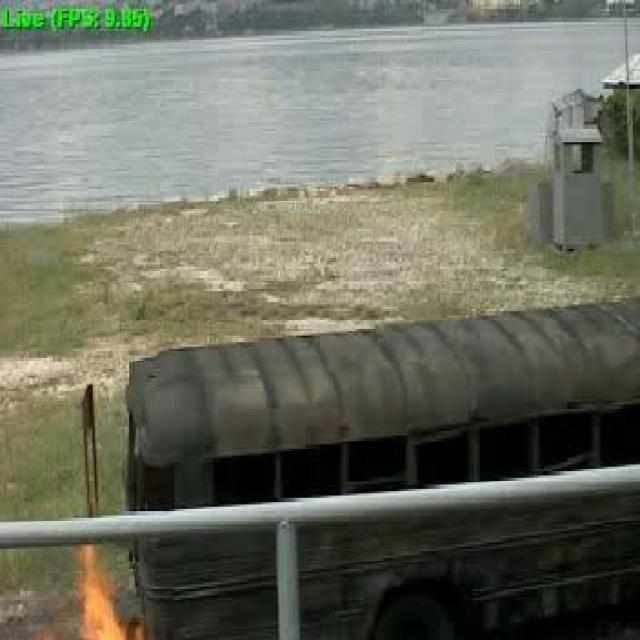Fire: (44, 522, 142, 636)
